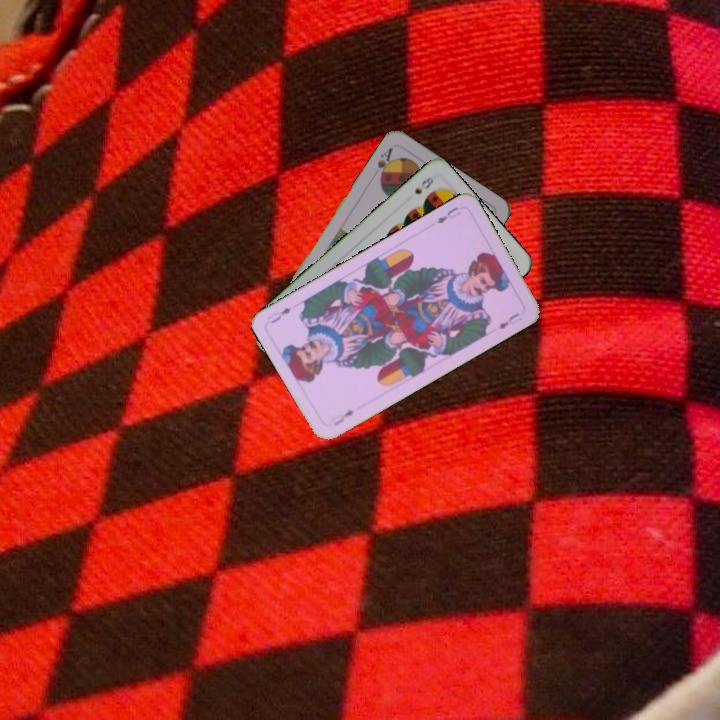EU: (432, 203, 463, 226), (326, 406, 357, 428)
S8: (410, 172, 436, 197)
SA: (373, 143, 397, 182)
